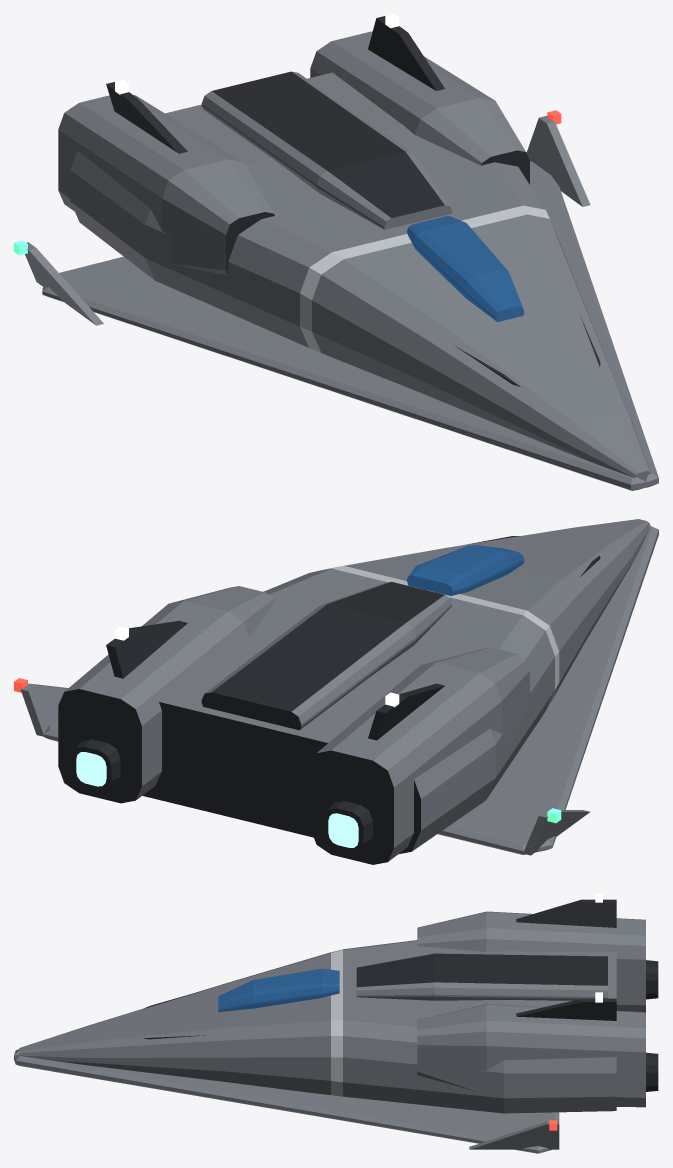
File: fer-de-lance.glb
The picture shows the model from 3 angles, top to bottom: view 1: azimuth 30°, elevation 25°; view 2: azimuth 150°, elevation 25°; view 3: azimuth 270°, elevation 25°; orthographic projection. The views are drawn at different scales.
Parts seen in each view (by area): view 1: fer-de-lance; view 2: fer-de-lance; view 3: fer-de-lance.
Part boxes in pixels (x1=…): fer-de-lance: x1=14, y1=14, x2=658, y2=490; fer-de-lance: x1=14, y1=519, x2=658, y2=864; fer-de-lance: x1=14, y1=893, x2=658, y2=1153.
Size of the model in its own units: 54.41 by 16.71 by 74.5.
